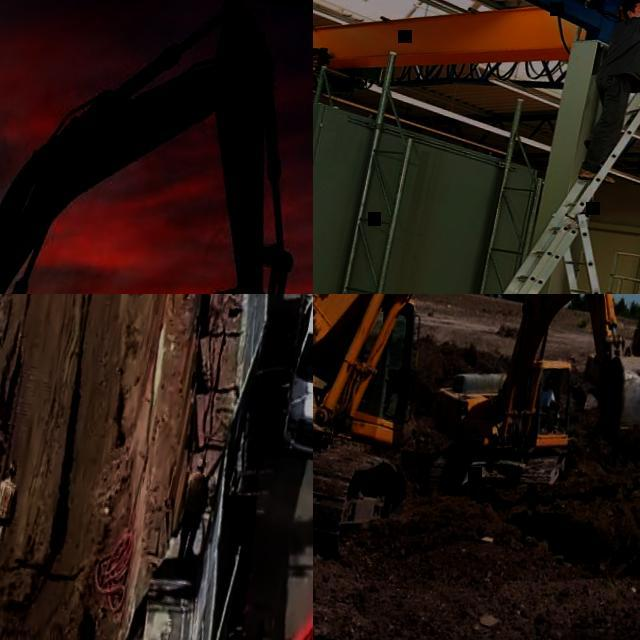helmet: (5, 460, 18, 475), (195, 458, 207, 468), (544, 376, 554, 384)
vest: (0, 479, 17, 519)
